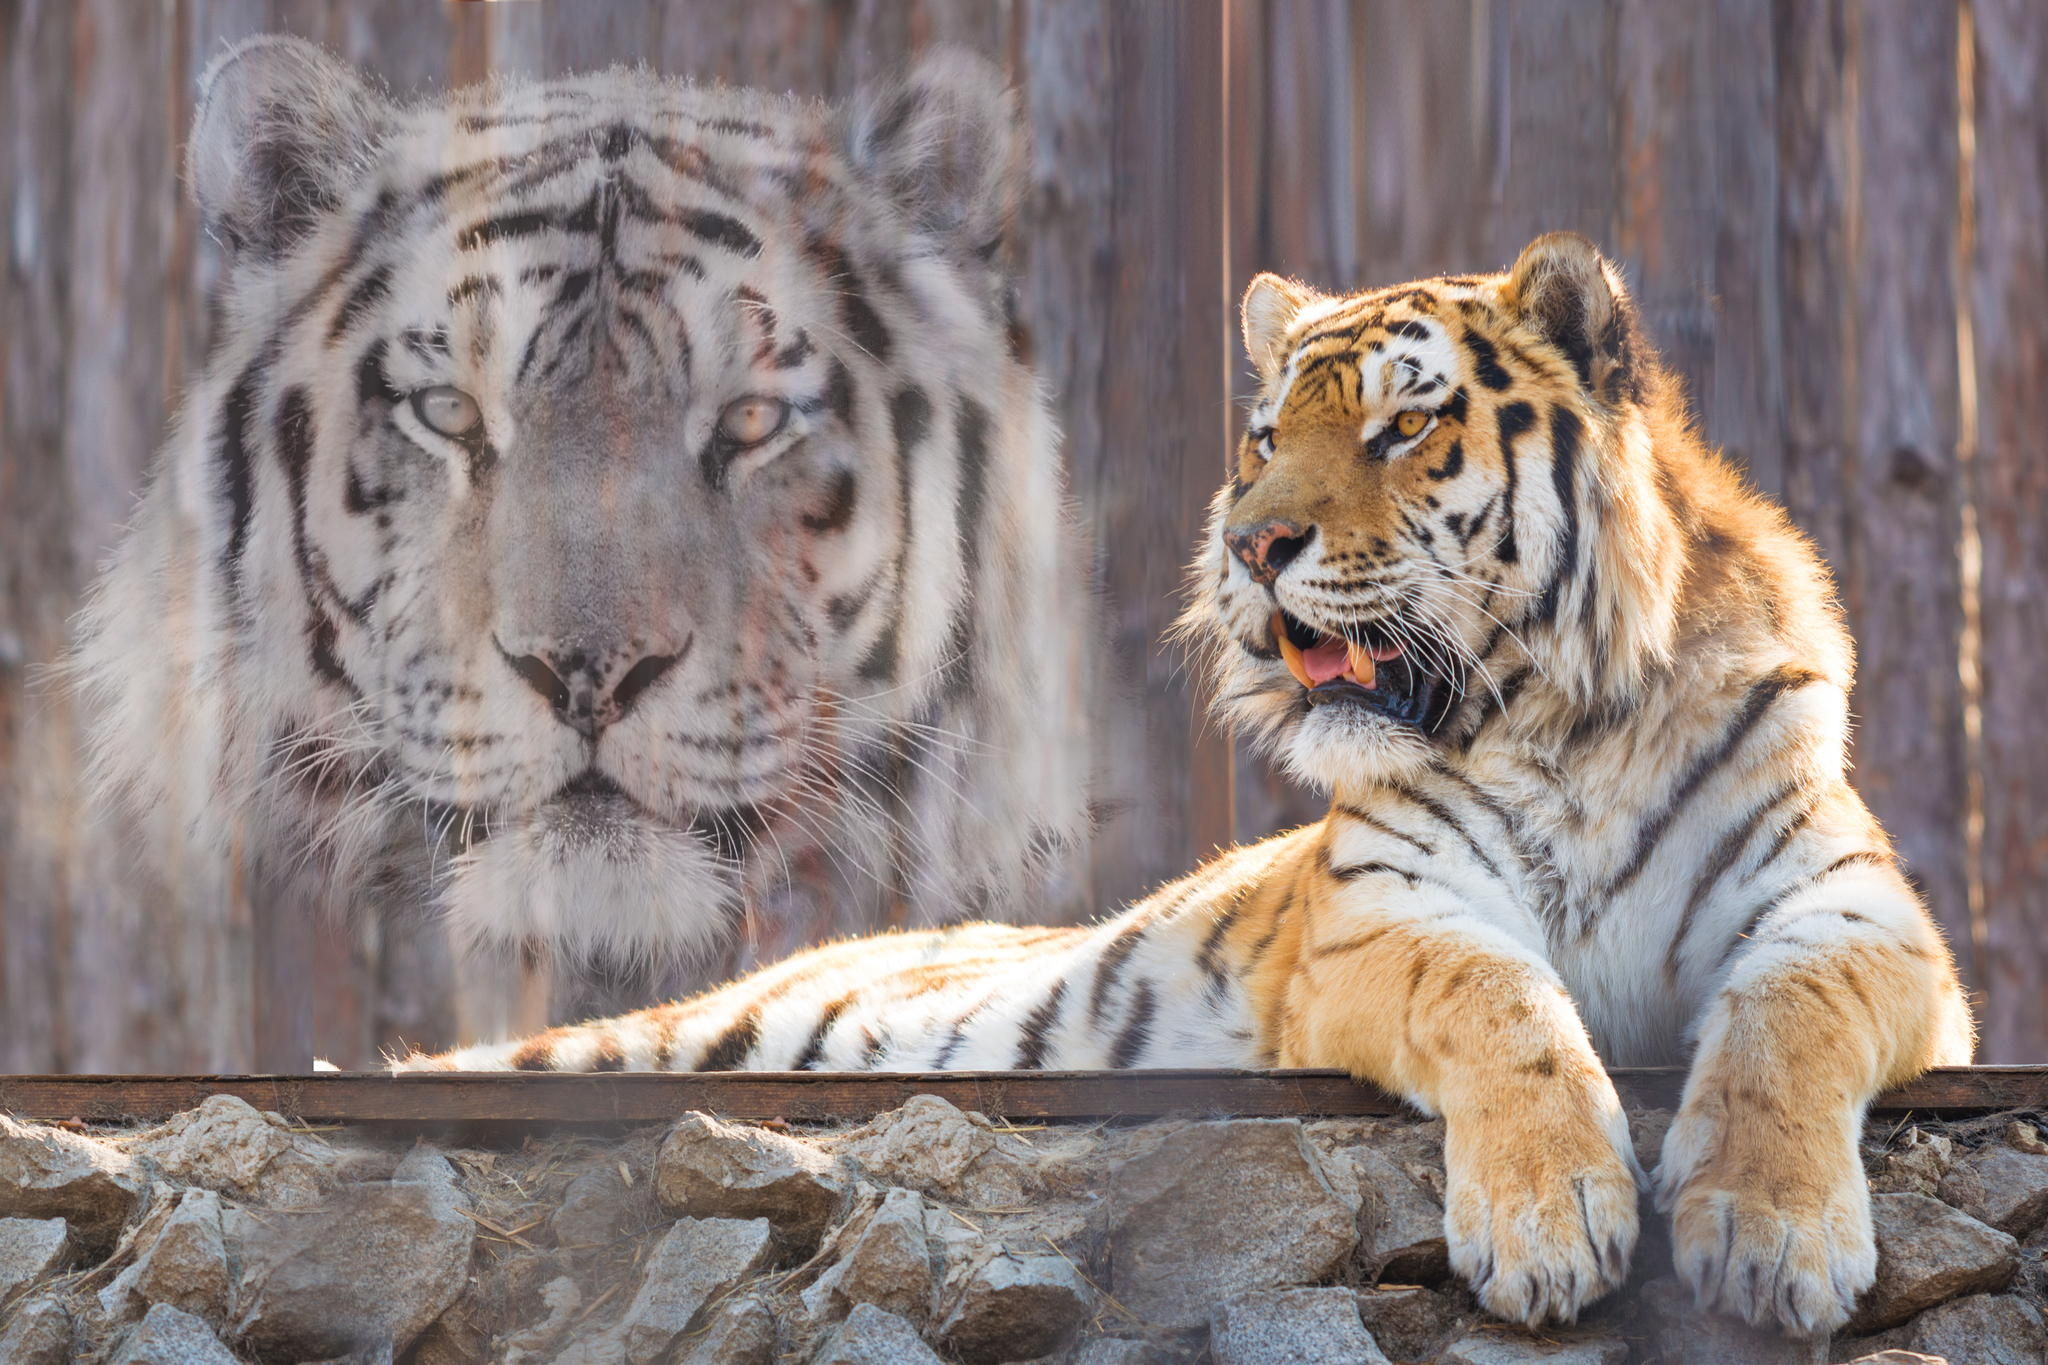tiger: (1019, 251, 1938, 1304)
